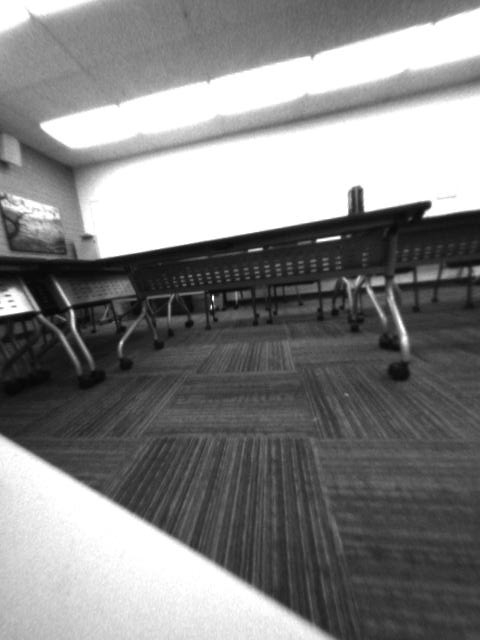can: (346, 183, 366, 217)
